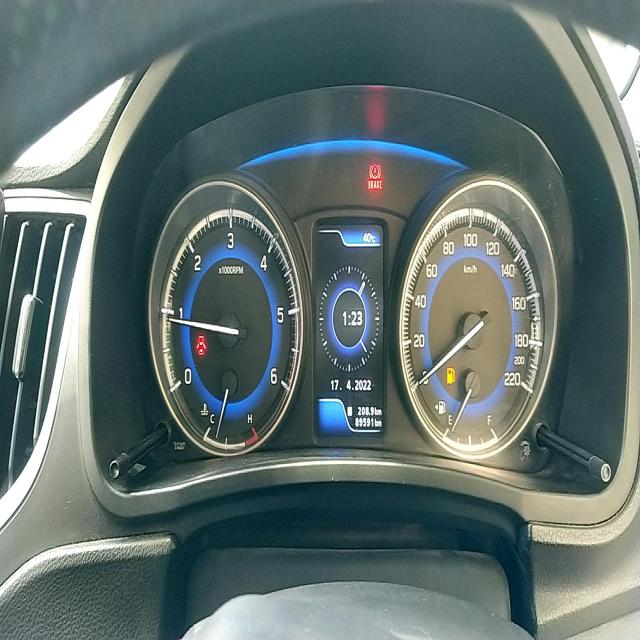odometer: (355, 415, 375, 430)
